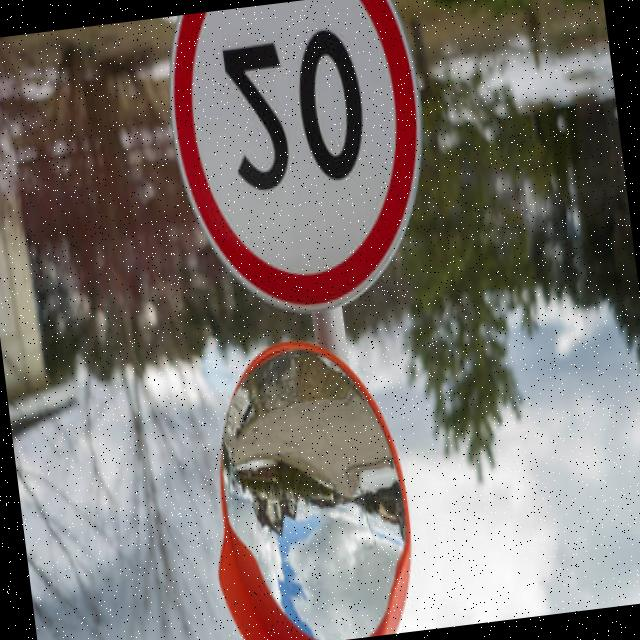speed_limit_20: (148, 0, 455, 350)
